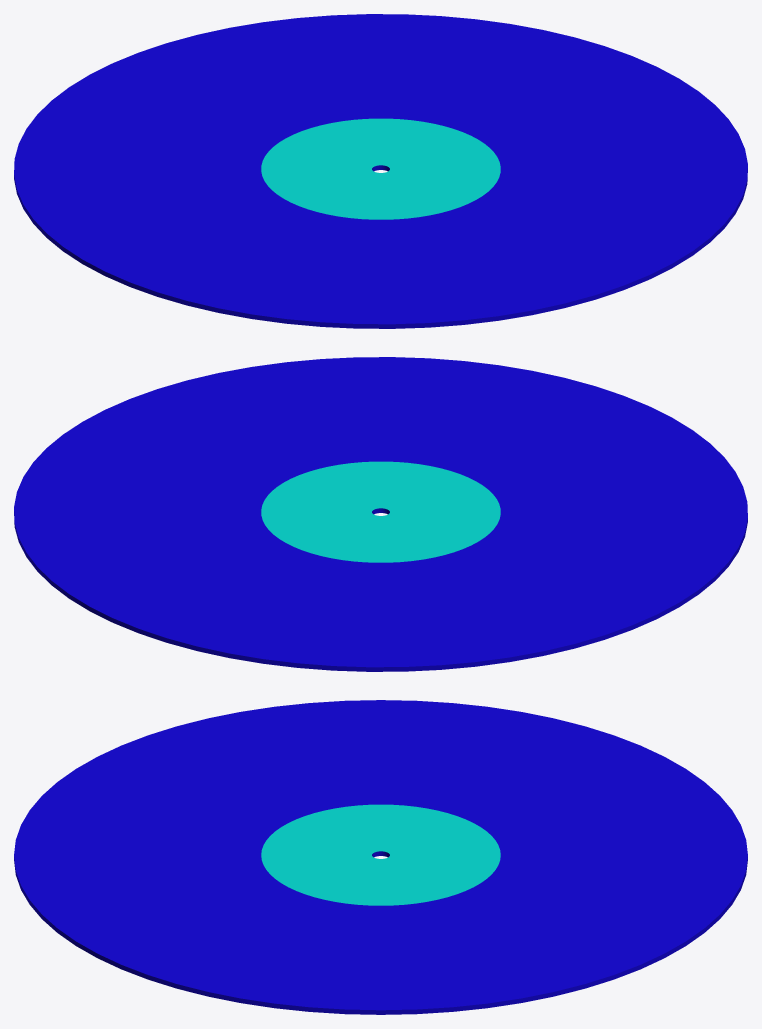
The model's file is Record.fbx.
The picture shows the model from 3 angles, top to bottom: view 1: azimuth 30°, elevation 25°; view 2: azimuth 150°, elevation 25°; view 3: azimuth 270°, elevation 25°; orthographic projection.
Parts seen in each view (by area): view 1: 33_1-3_Record; view 2: 33_1-3_Record; view 3: 33_1-3_Record.
Part boxes in pixels (<box>): 33_1-3_Record: <box>14,14,747,328</box>; 33_1-3_Record: <box>14,357,747,671</box>; 33_1-3_Record: <box>14,700,747,1014</box>.
Size of the model in its own units: 450 by 3.15 by 450.
